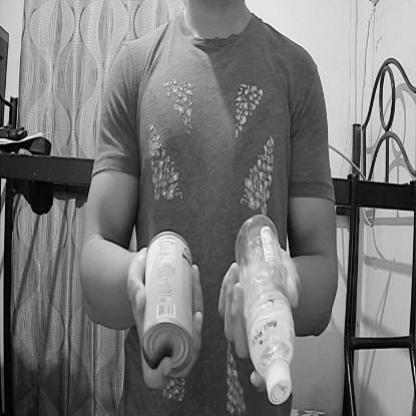Plastic Bottle: (227, 217, 308, 416)
